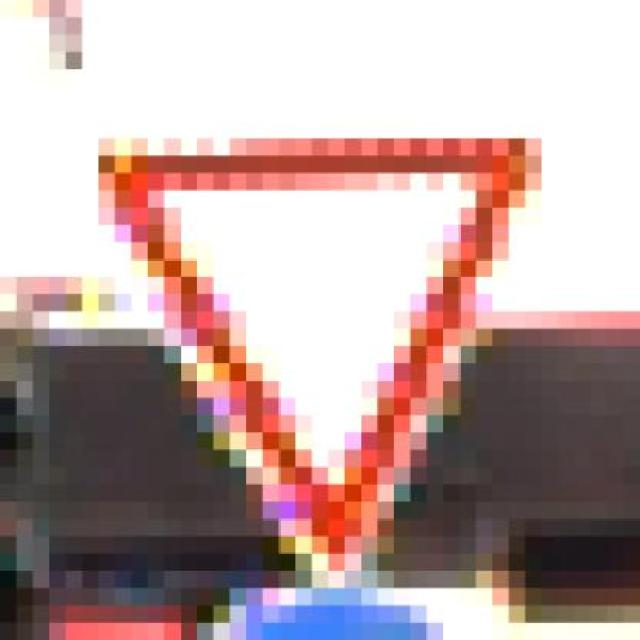Give Way: (66, 120, 592, 572)
